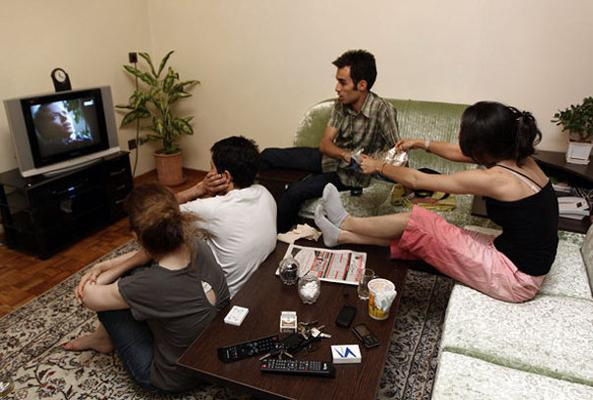person: (313, 103, 561, 306)
